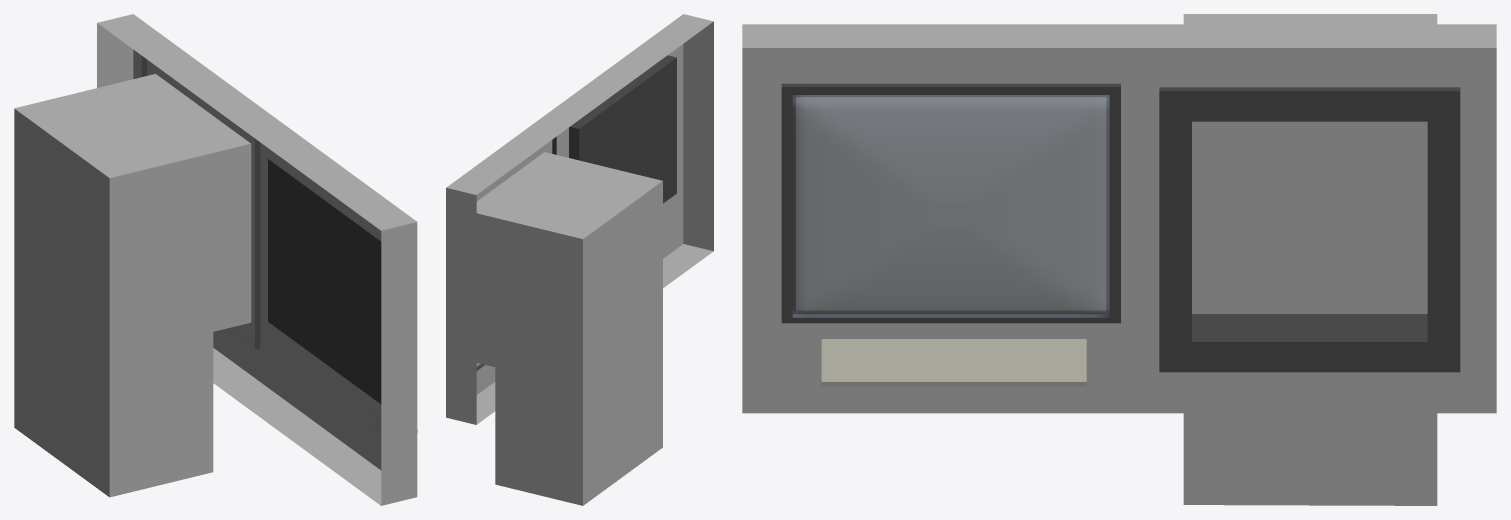
The model's file is estacion_compra_v2.glb.
The picture shows the model from 3 angles, left to right: view 1: azimuth 30°, elevation 25°; view 2: azimuth 150°, elevation 25°; view 3: azimuth 270°, elevation 25°; orthographic projection. The views are drawn at different scales.
Visible parts, largest first — view 1: Cube.003, Cube.001, Cube.004; view 2: Cube.003, Cube.001; view 3: Cube.003, Cube.012, Cube.006, Cube.004, Cube.001, Cube.005.
Boxes of the visible parts, x1,y1,x2,y2 form: Cube.003: (14, 14, 417, 505); Cube.001: (268, 156, 381, 404); Cube.004: (141, 56, 260, 349); Cube.003: (446, 14, 713, 505); Cube.001: (569, 55, 676, 203); Cube.003: (742, 14, 1496, 505); Cube.012: (792, 95, 1109, 317); Cube.006: (796, 97, 1106, 310); Cube.004: (1159, 87, 1460, 372); Cube.001: (781, 83, 1120, 323); Cube.005: (821, 339, 1086, 386).
Size of what is drawn, in the model's own units: 1.34 by 2.71 by 3.85.
